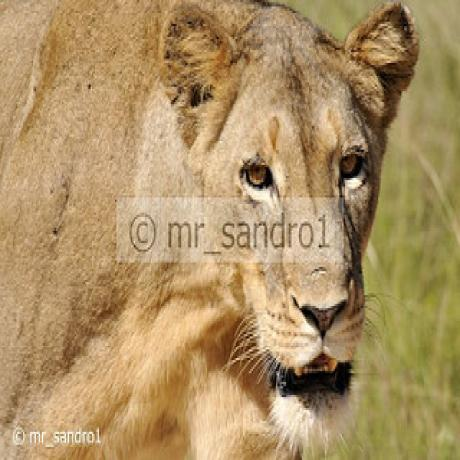Lion: (0, 0, 422, 460)
